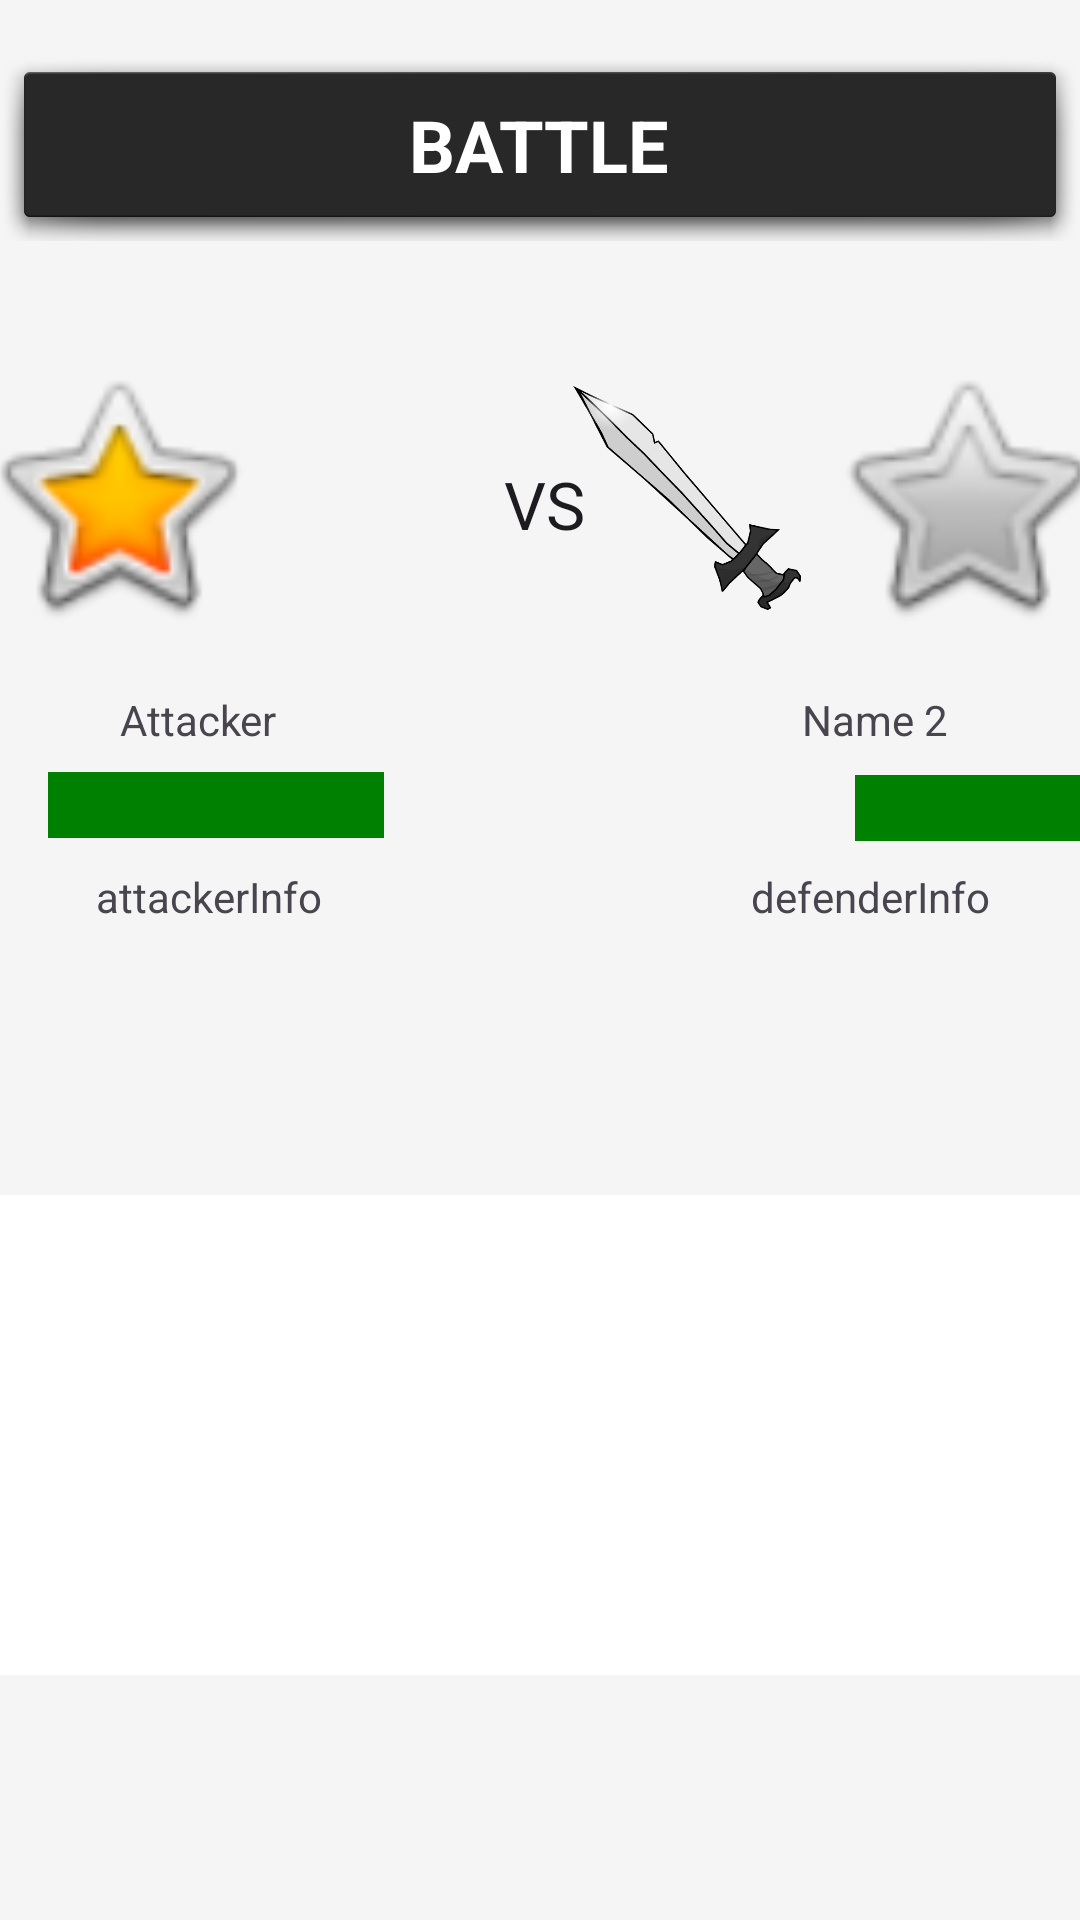

Icons on this 1080w x 1920h Android screen, each with the point to tap as (x=x, y=y):
star off: (x=965, y=498)
star on: (x=119, y=498)
sword right: (x=687, y=498)
